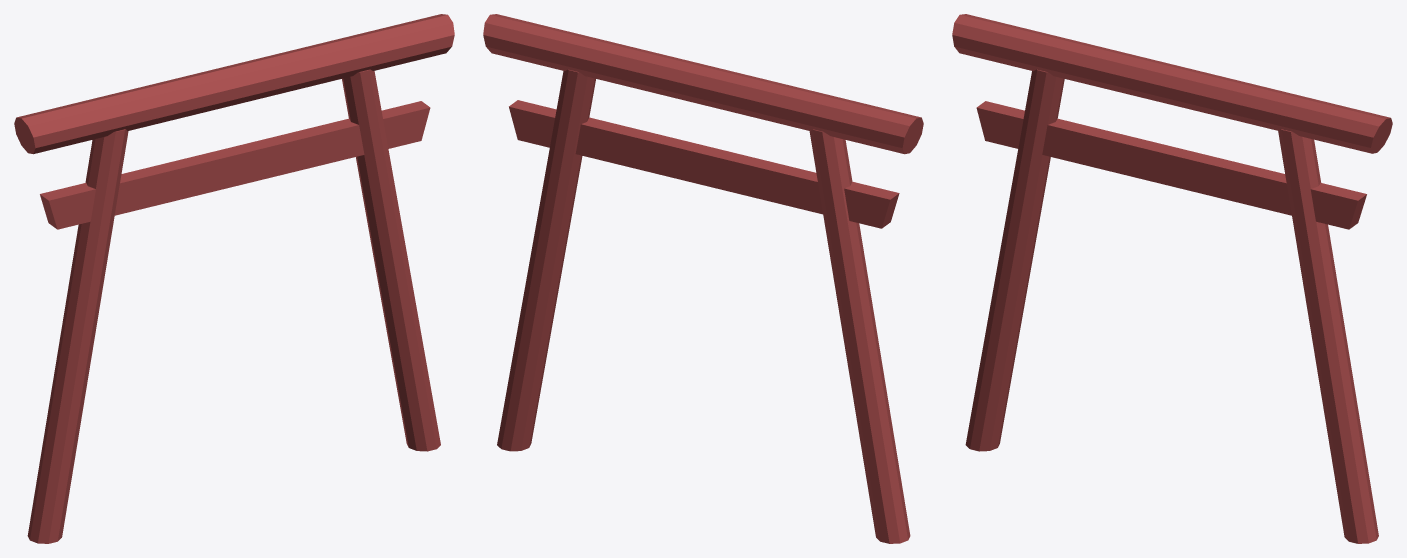
The model's file is ER_Asset_Tori.fbx.
The picture shows the model from 3 angles, left to right: view 1: azimuth 30°, elevation 25°; view 2: azimuth 150°, elevation 25°; view 3: azimuth 330°, elevation 25°; orthographic projection.
Parts seen in each view (by area): view 1: pCylinder25; view 2: pCylinder25; view 3: pCylinder25.
Boxes of the visible parts, x1,y1,x2,y2 form: pCylinder25: (14, 14, 454, 543); pCylinder25: (483, 14, 923, 543); pCylinder25: (952, 14, 1392, 543).
Size of the model in its own units: 4.5 by 4.28 by 0.353.
